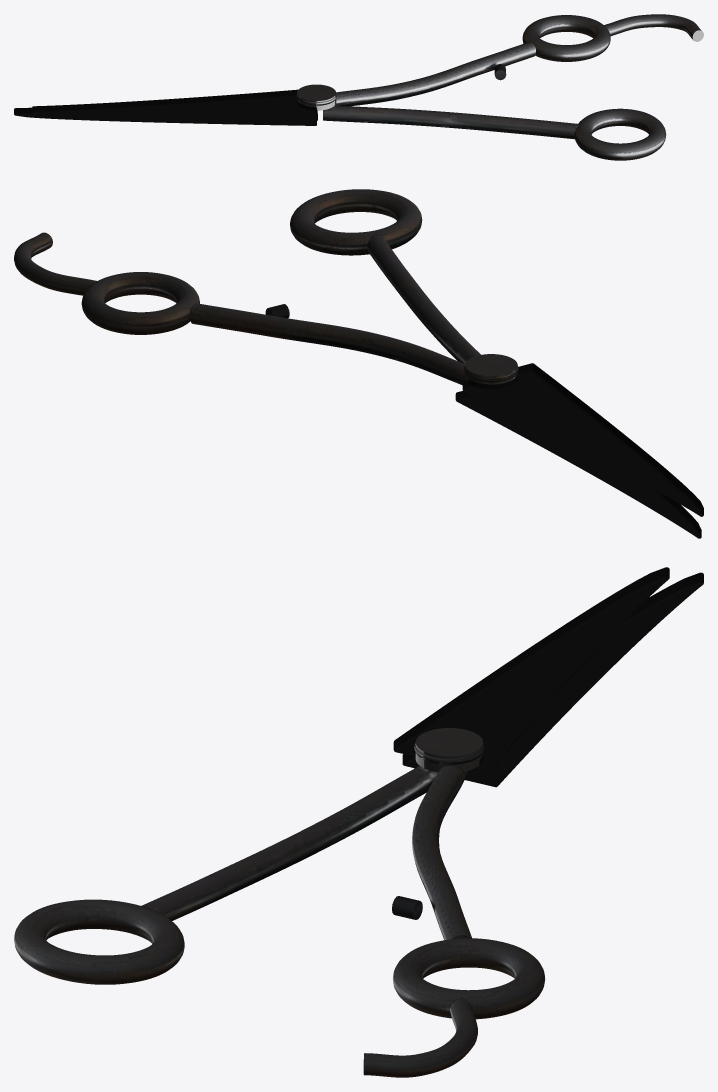
The model's file is scissors.glb.
3 views of the same model, one above another, from view 1: azimuth 30°, elevation 25°; view 2: azimuth 150°, elevation 25°; view 3: azimuth 270°, elevation 25° (orthographic). The views are drawn at different scales.
Visible parts, largest first — view 1: sc_blade_b, sc_shank_a, sc_shank_b, sc_ring_a, sc_ring_b, sc_blade_a, sc_tang, sc_pivot; view 2: sc_blade_b, sc_shank_b, sc_ring_a, sc_ring_b, sc_blade_a, sc_shank_a, sc_tang, sc_pivot; view 3: sc_blade_b, sc_ring_a, sc_shank_a, sc_ring_b, sc_blade_a, sc_shank_b, sc_tang, sc_pivot.
Part boxes in pixels (<box>): sc_blade_b: <box>32,89,317,121</box>; sc_shank_a: <box>323,105,579,139</box>; sc_shank_b: <box>335,41,535,106</box>; sc_ring_a: <box>574,108,666,160</box>; sc_ring_b: <box>522,15,610,61</box>; sc_blade_a: <box>14,107,316,125</box>; sc_tang: <box>604,14,703,41</box>; sc_pivot: <box>297,84,336,110</box>; sc_blade_b: <box>462,363,703,516</box>; sc_shank_b: <box>190,303,465,385</box>; sc_ring_a: <box>290,189,422,255</box>; sc_ring_b: <box>81,272,199,334</box>; sc_blade_a: <box>455,391,701,538</box>; sc_shank_a: <box>367,234,480,363</box>; sc_tang: <box>14,232,97,295</box>; sc_pivot: <box>465,354,517,389</box>; sc_blade_b: <box>393,567,669,772</box>; sc_ring_a: <box>14,899,184,984</box>; sc_shank_a: <box>141,765,437,920</box>; sc_ring_b: <box>393,938,545,1019</box>; sc_blade_a: <box>402,572,703,787</box>; sc_shank_b: <box>412,765,471,940</box>; sc_tang: <box>363,998,477,1077</box>; sc_pivot: <box>415,728,483,772</box>.
Size of the model in its own units: 0.2412 by 0.00962 by 0.1403.
10 materials, 10 textured.
